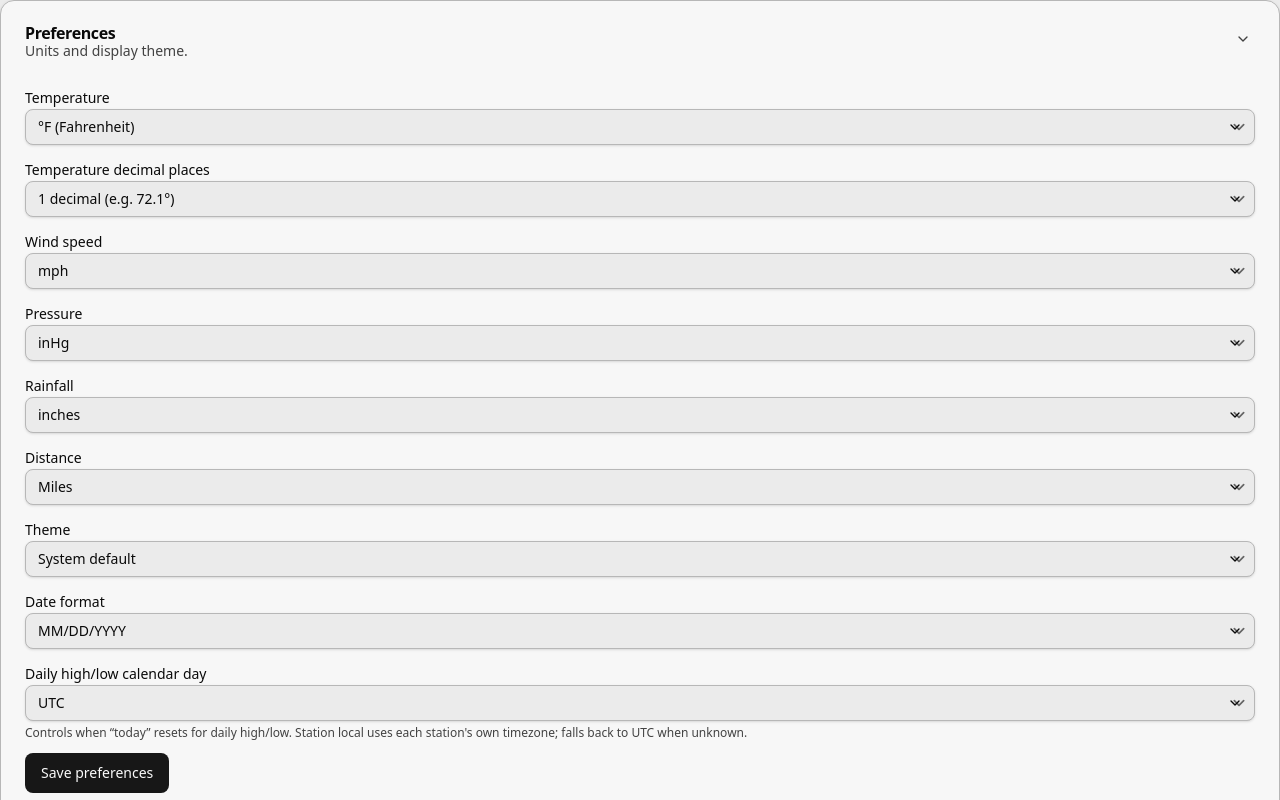
Test: PreferencesCard › shows the API error when saving preferences fails
Click the button with test id "settings-preferences-save-button" at [97, 773], box [25,753,169,793]
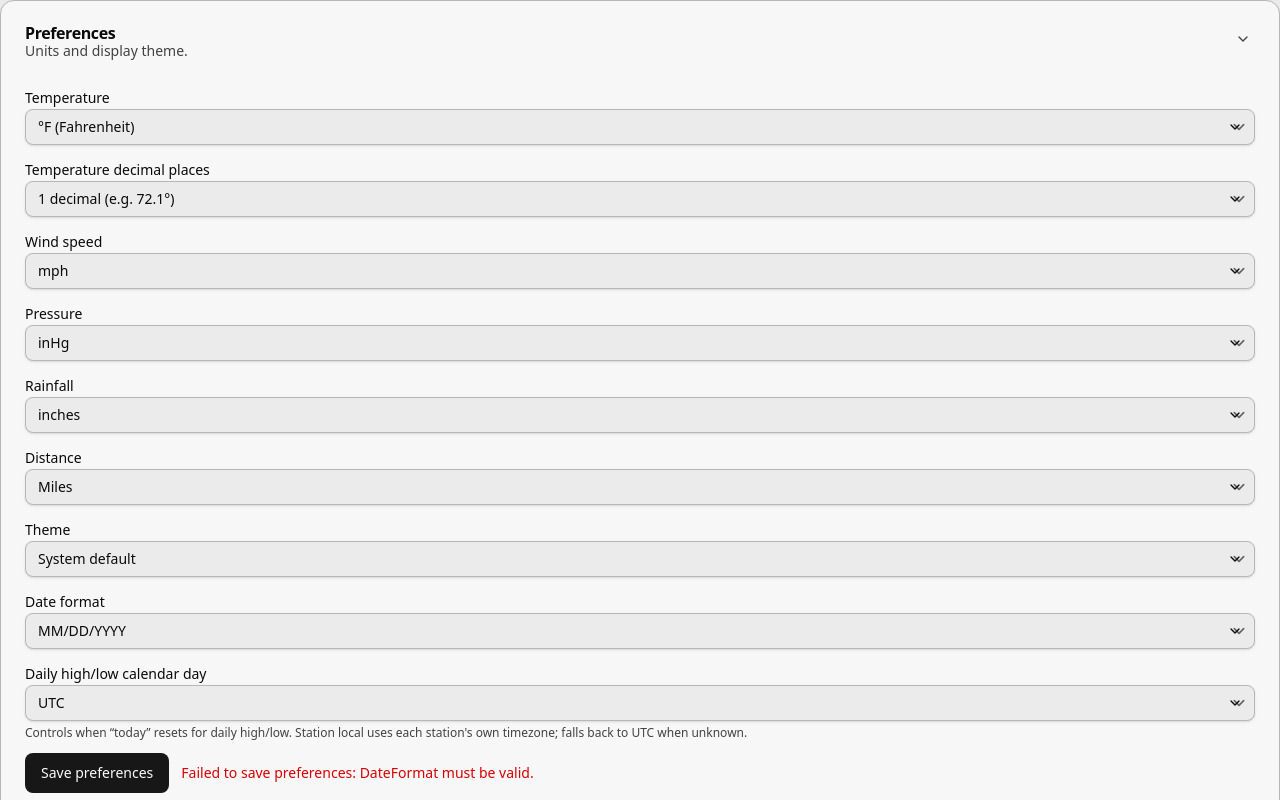
Now the message with test id "settings-preferences-save-error" shows "DateFormat must be valid.", box [360,763,534,782]
